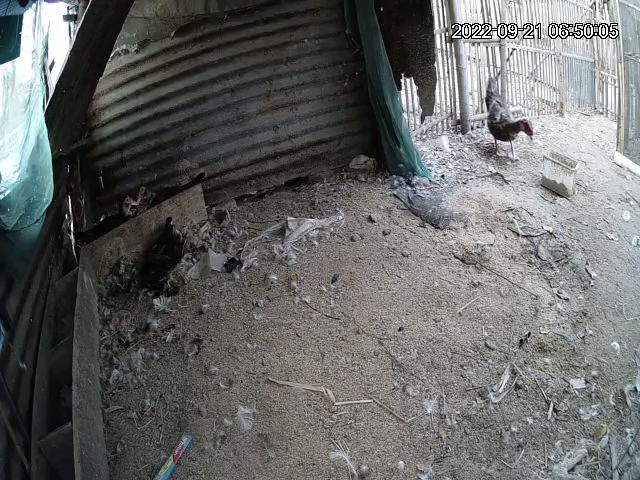Mengeram: (79, 175, 204, 256)
